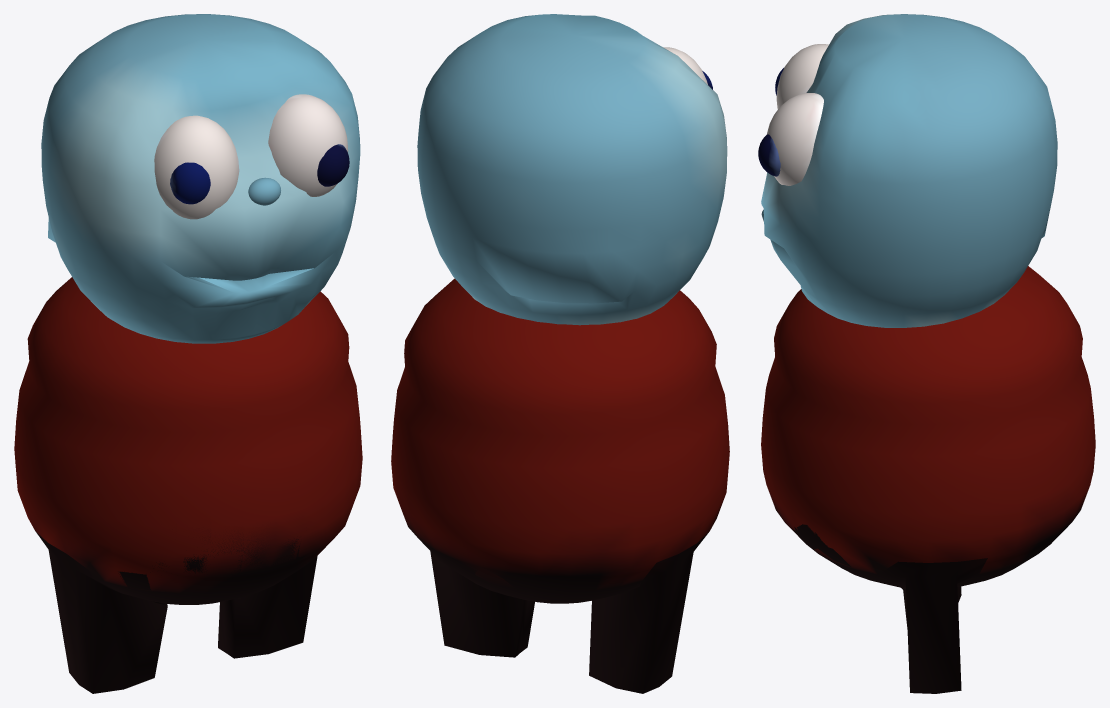
File: lomka.fbx
3 renders of one model, left to right at view 1: azimuth 30°, elevation 25°; view 2: azimuth 150°, elevation 25°; view 3: azimuth 270°, elevation 25°, orthographic. The views are drawn at different scales.
Parts seen in each view (by area): view 1: Sphere, Sphere.001, Sphere.003, Sphere.002, Sphere.005, Sphere.004, Sphere.006; view 2: Sphere, Sphere.001; view 3: Sphere, Sphere.001, Sphere.002, Sphere.003, Sphere.004.
Boxes of the visible parts, bbox=[...] form: Sphere: bbox=[14, 277, 362, 693]; Sphere.001: bbox=[41, 14, 360, 343]; Sphere.003: bbox=[154, 115, 239, 219]; Sphere.002: bbox=[268, 94, 348, 196]; Sphere.005: bbox=[170, 162, 210, 204]; Sphere.004: bbox=[317, 144, 349, 186]; Sphere.006: bbox=[248, 177, 280, 205]; Sphere: bbox=[391, 278, 729, 693]; Sphere.001: bbox=[417, 14, 727, 325]; Sphere: bbox=[761, 266, 1095, 693]; Sphere.001: bbox=[761, 14, 1057, 327]; Sphere.002: bbox=[767, 93, 823, 185]; Sphere.003: bbox=[776, 44, 828, 109]; Sphere.004: bbox=[758, 134, 780, 176].
Size of the model in its own units: 173 by 347 by 174.
